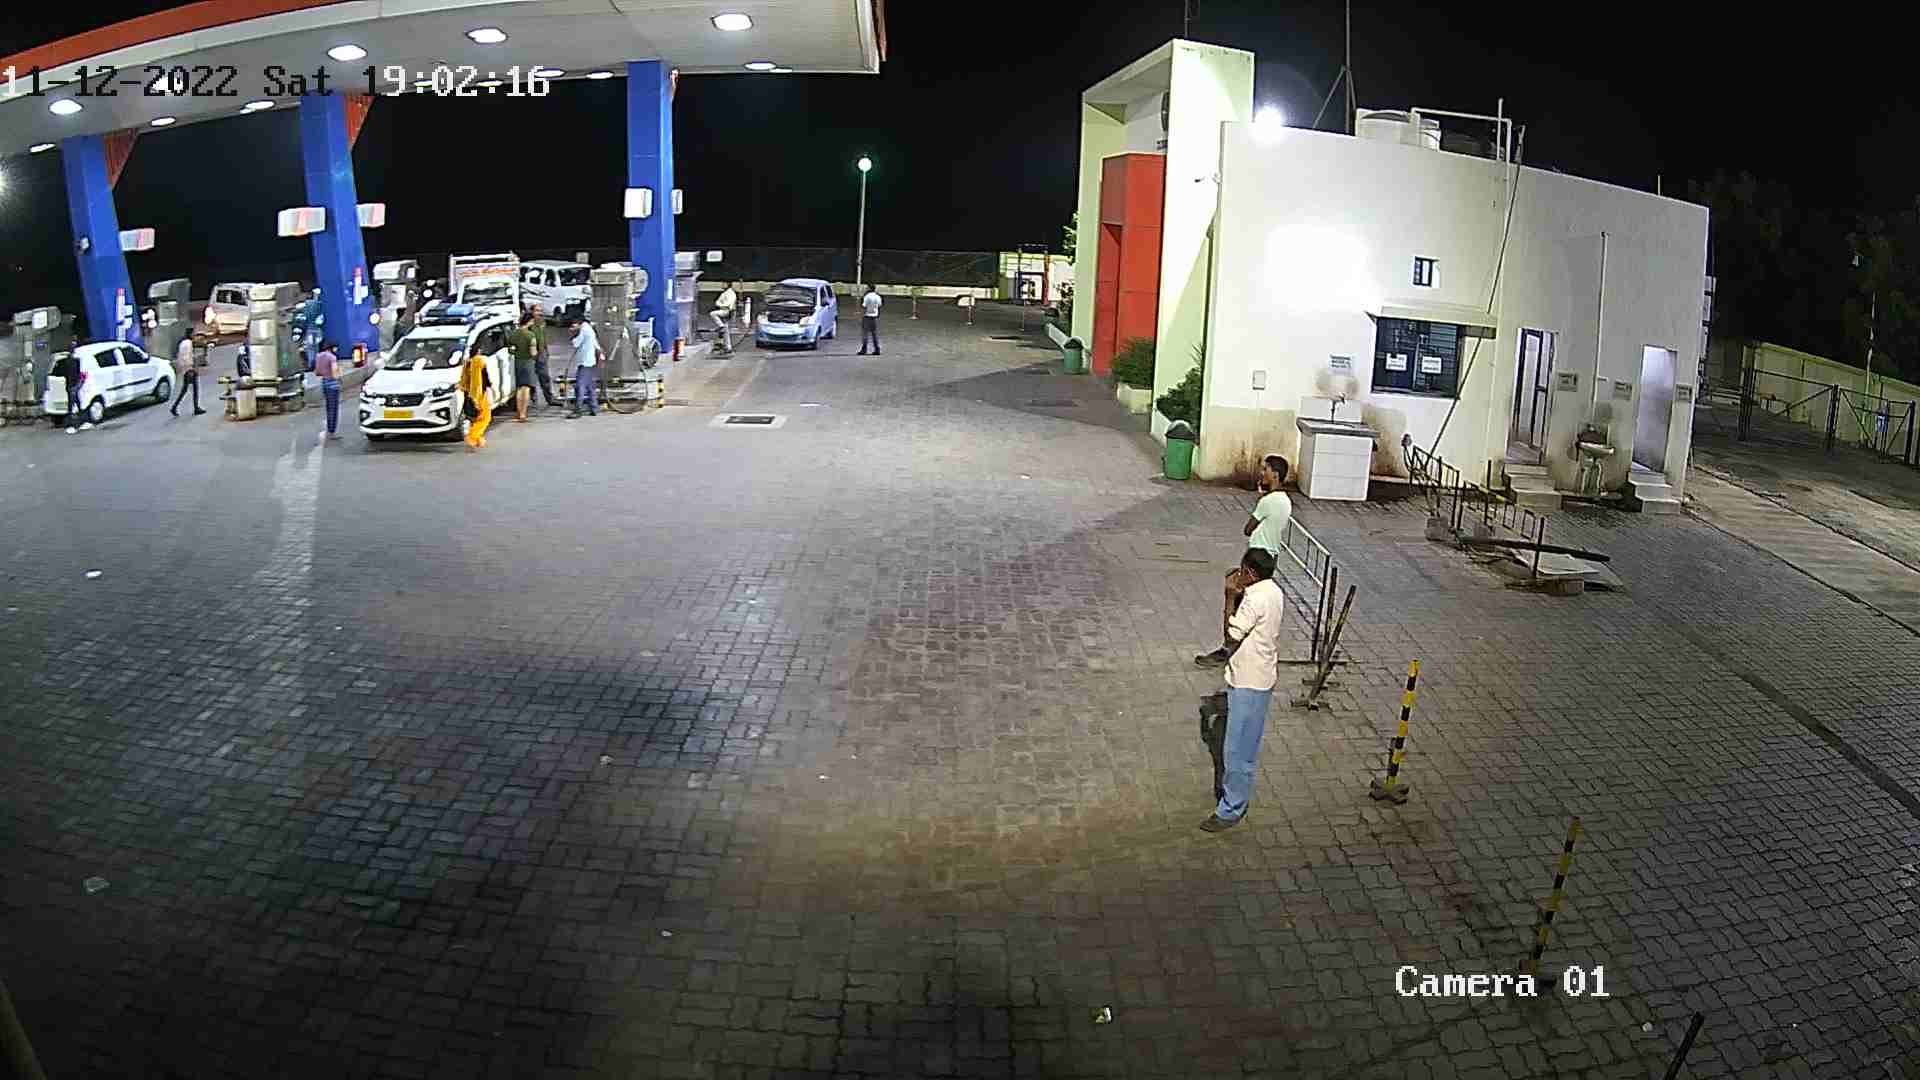Car: (345, 293, 537, 458), (32, 332, 181, 429), (439, 240, 526, 339), (746, 266, 843, 353), (229, 295, 327, 380), (516, 248, 603, 332), (200, 274, 262, 339), (406, 269, 451, 318)
